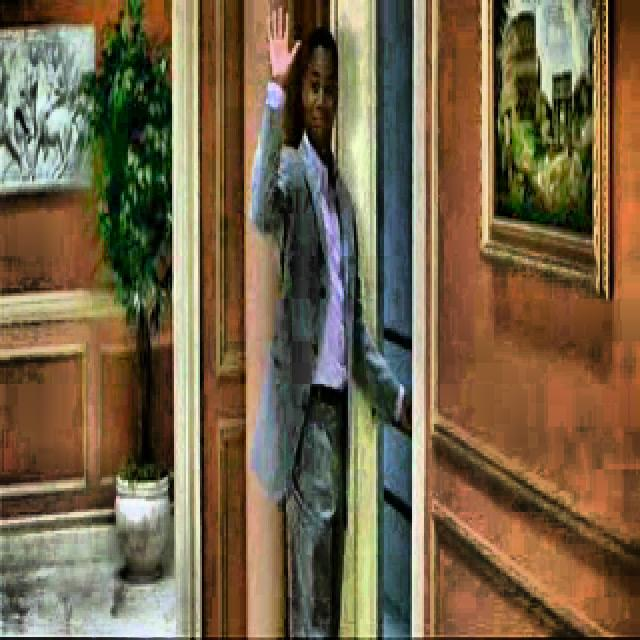T: (240, 2, 416, 633)
